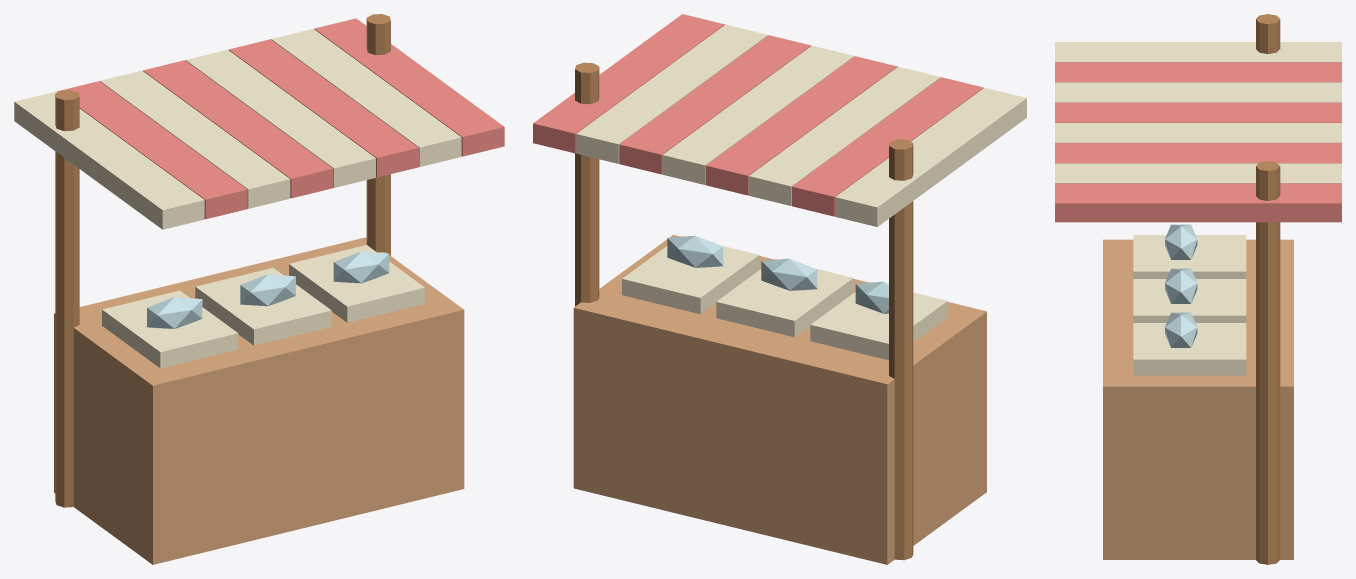
The model's file is fish_market_stall.glb.
3 renders of one model, left to right at view 1: azimuth 30°, elevation 25°; view 2: azimuth 150°, elevation 25°; view 3: azimuth 270°, elevation 25°, orthographic. The views are drawn at different scales.
Parts seen in each view (by area): view 1: fish_market_stall; view 2: fish_market_stall; view 3: fish_market_stall.
Boxes of the visible parts, bbox=[...] form: fish_market_stall: bbox=[14, 14, 504, 564]; fish_market_stall: bbox=[533, 14, 1026, 564]; fish_market_stall: bbox=[1055, 14, 1341, 564].
Bounding box in the file's own units: 2.19 × 2.5 × 1.65.
